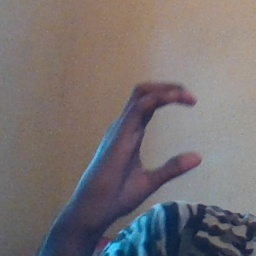C: (102, 73, 211, 191)
